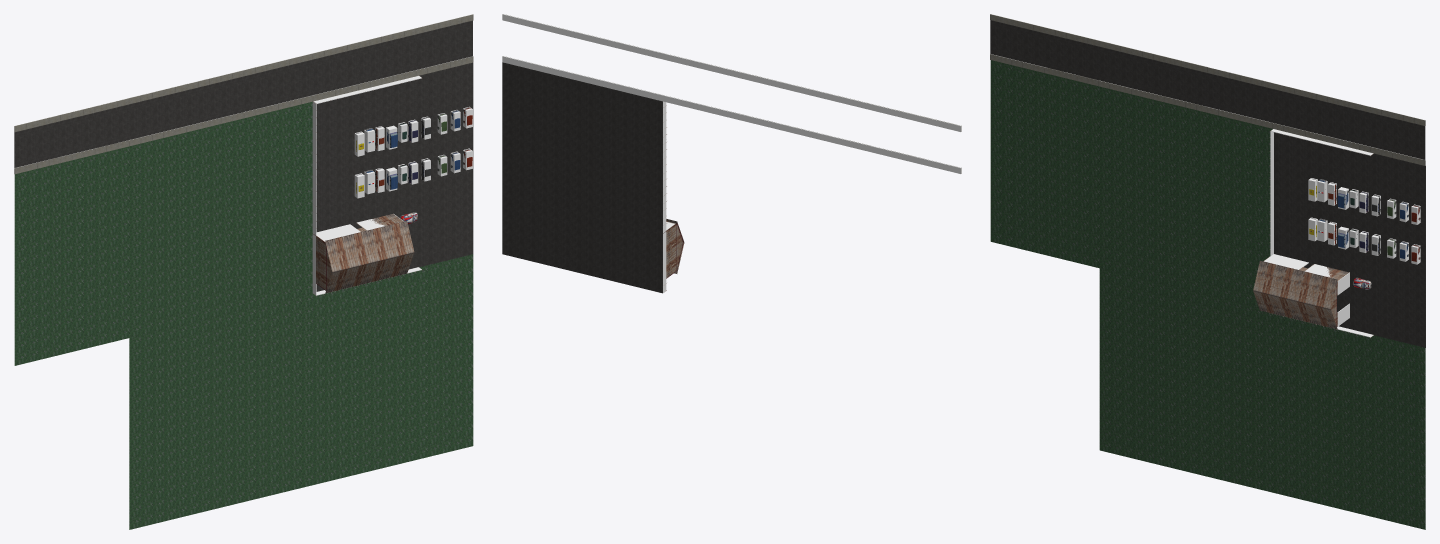
File: world.gltf
3 views of the same model, side by side, from view 1: azimuth 30°, elevation 25°; view 2: azimuth 150°, elevation 25°; view 3: azimuth 330°, elevation 25° (orthographic). The views are drawn at different scales.
Parts seen in each view (by area): view 1: grass.001, grass, roadAsphalt_side.001, roadAsphalt_center, Shed A, MovementMesh.Terrain.002; view 2: roadAsphalt_center, MovementMesh.Terrain.005, MovementMesh.Terrain.004, Shed A, MovementMesh.Terrain.002; view 3: grass.001, grass, roadAsphalt_side.001, roadAsphalt_center, Shed A.
Part boxes in pixels (x1,y1,x2,y2): grass.001: (129,254,473,529); grass: (14,101,312,365); roadAsphalt_side.001: (14,14,473,174); roadAsphalt_center: (316,62,473,291); Shed A: (316,214,414,293); MovementMesh.Terrain.002: (312,102,316,295); roadAsphalt_center: (502,62,662,293); MovementMesh.Terrain.005: (502,14,961,131); MovementMesh.Terrain.004: (502,56,961,173); Shed A: (666,219,684,277); MovementMesh.Terrain.002: (663,101,666,292); grass.001: (1099,268,1425,529); grass: (990,60,1272,306); roadAsphalt_side.001: (990,14,1425,165); roadAsphalt_center: (1274,132,1425,347); Shed A: (1253,256,1348,329).
Size of the model in its own units: 160 by 144 by 12.52.
21 materials, 19 textured.
